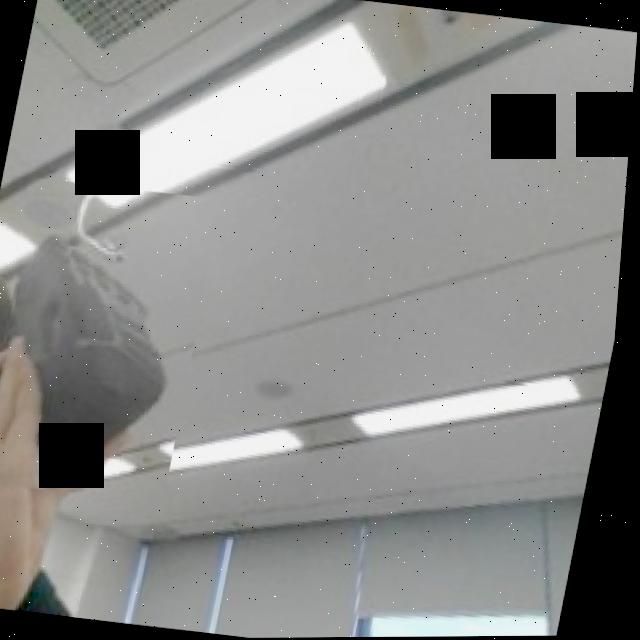shoe: (0, 172, 227, 509)
